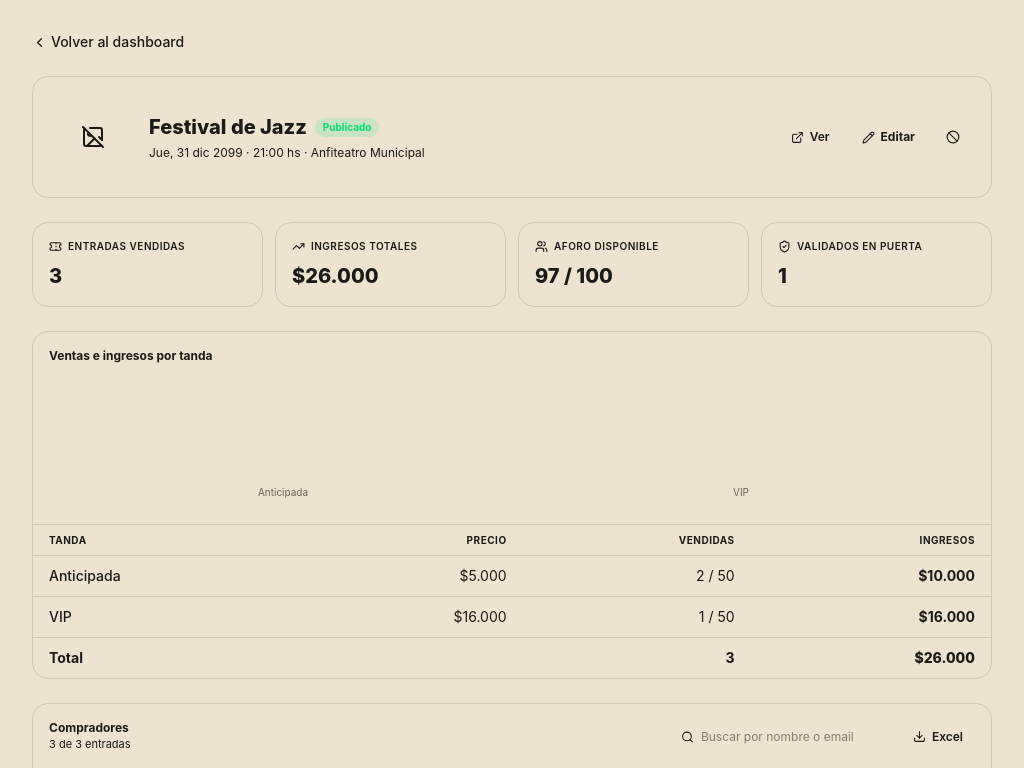
Test: OrganizadorEventoDetallePage — cancelar el evento › al confirmar cancela el evento, avisa con un toast y recarga los datos
expect the heading "Festival de Jazz" is shown: met, box left=149, top=113, right=307, bottom=141
Click the button titled "Cancelar evento" at (953, 137), box left=935, top=119, right=971, bottom=155
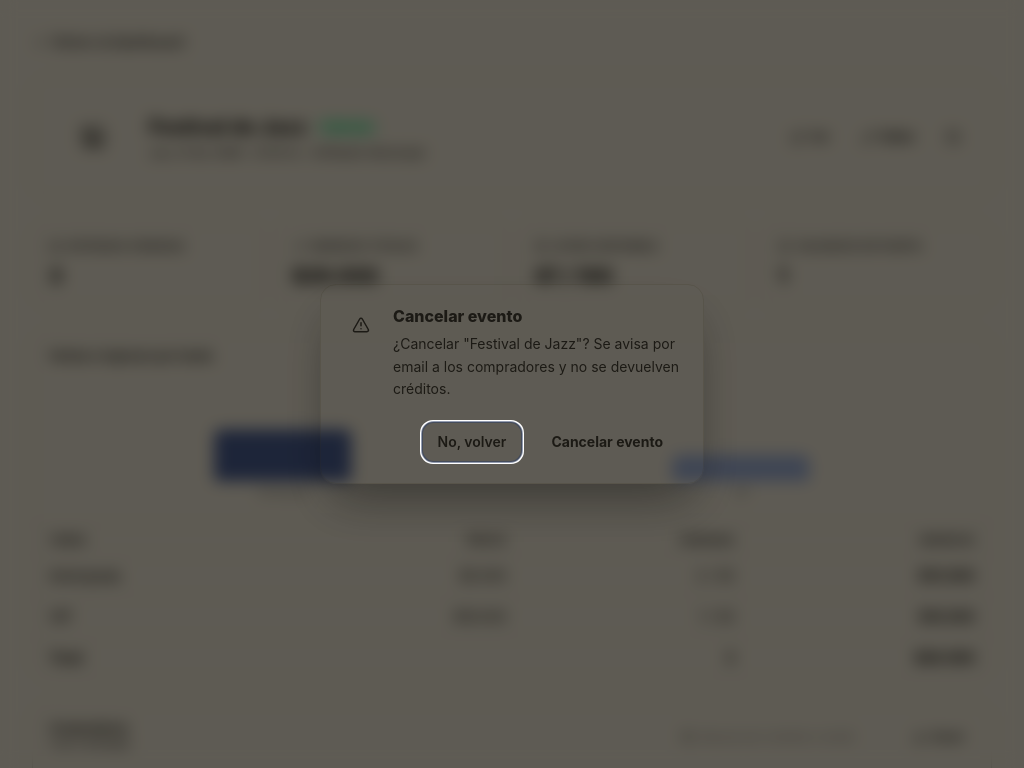
Click the button "Cancelar evento" at (607, 442), box left=531, top=421, right=683, bottom=463
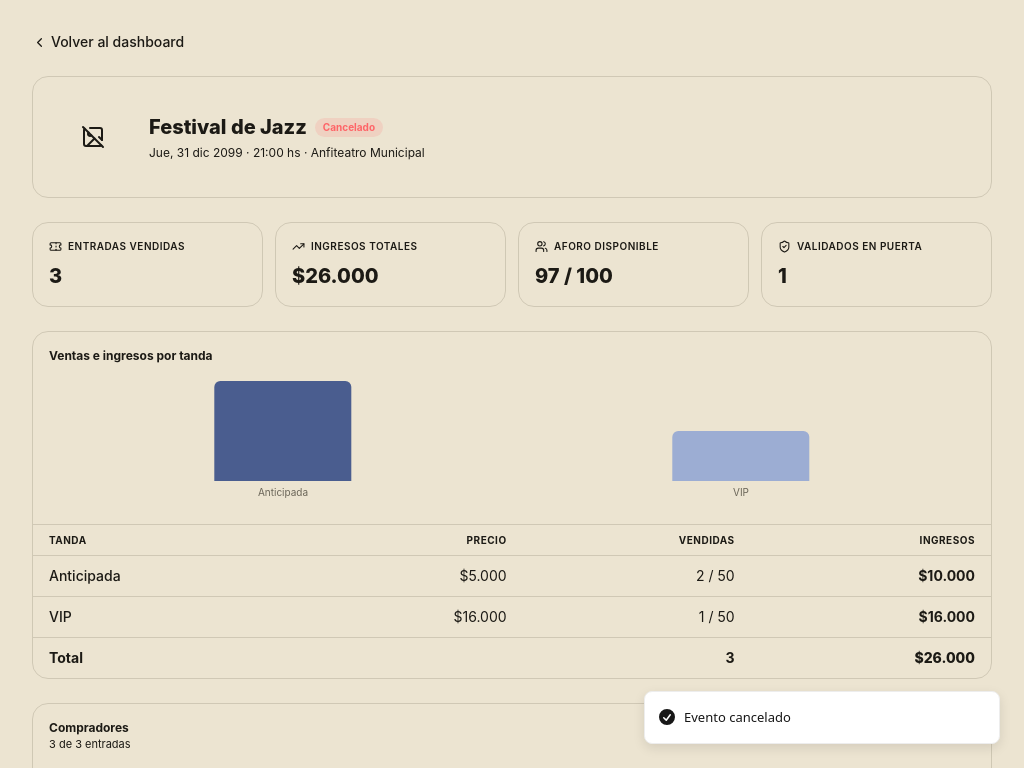
expect the text "Evento cancelado" is shown: met, box left=684, top=708, right=791, bottom=727
expect the text "Cancelado" is shown: met, box left=315, top=118, right=383, bottom=136
expect the heading titled "Cancelar evento" is gone: met
